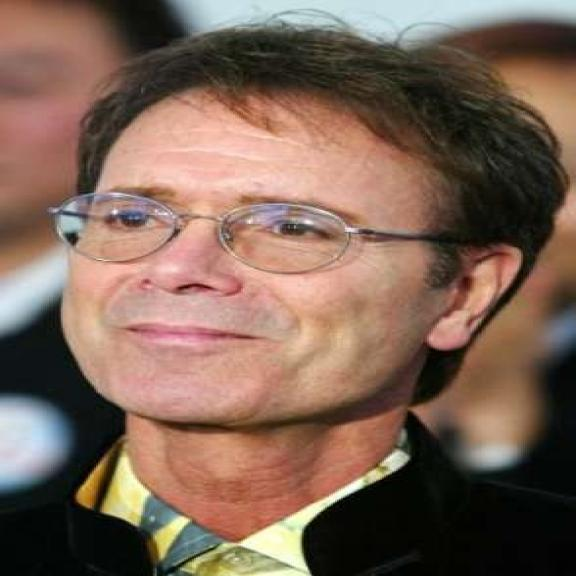face: (60, 91, 532, 427)
